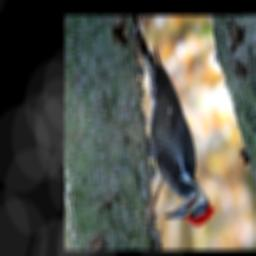Woodpecker: (135, 18, 216, 228)
